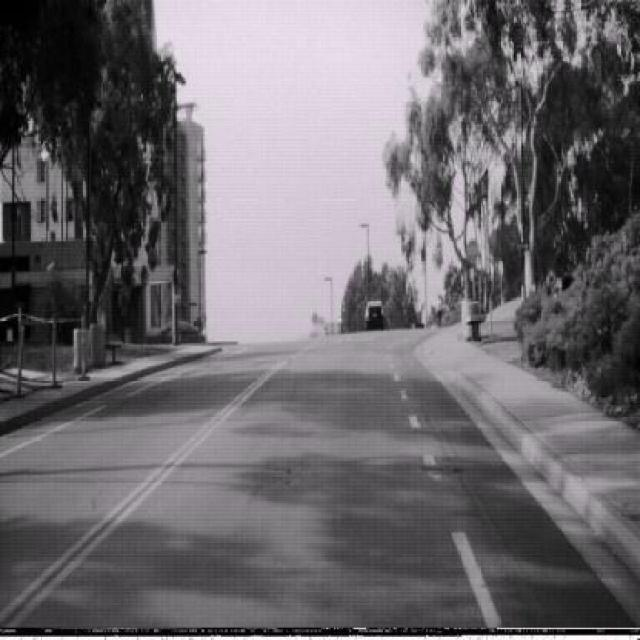stop: (465, 237, 479, 265)
